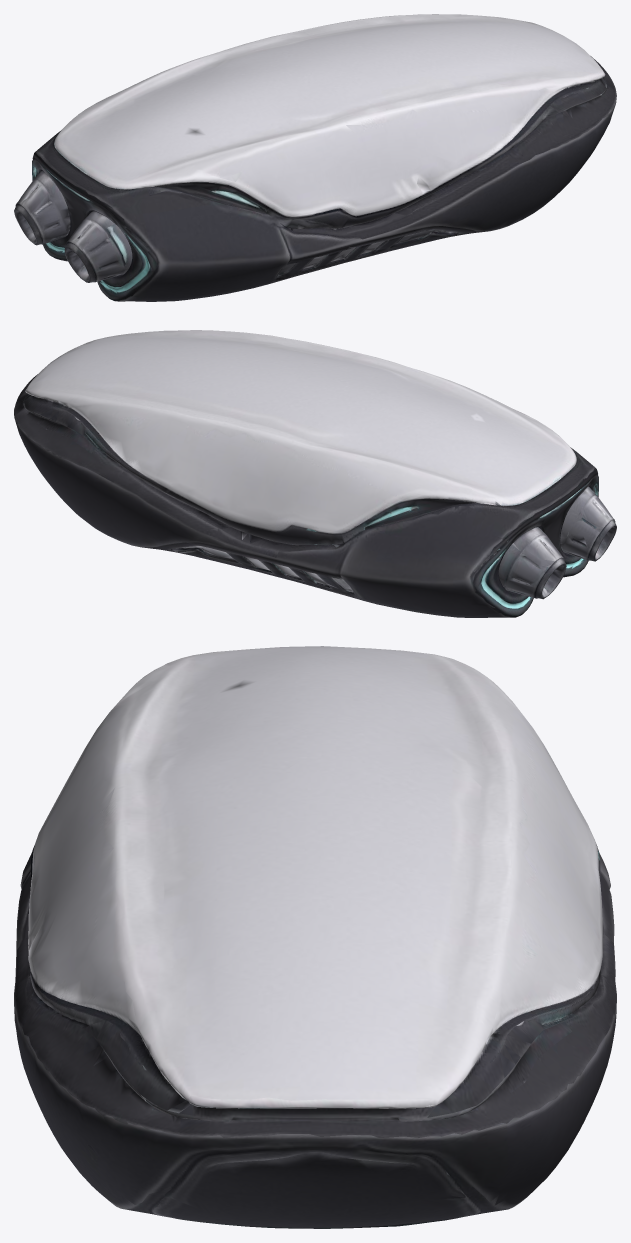
File: jetpack.glb
3 views of the same model, one above another, from view 1: azimuth 30°, elevation 25°; view 2: azimuth 150°, elevation 25°; view 3: azimuth 270°, elevation 25° (orthographic). The views are drawn at different scales.
Parts seen in each view (by area): view 1: jetpack2; view 2: jetpack2; view 3: jetpack2.
Boxes of the visible parts, x1=… form: jetpack2: x1=14, y1=14, x2=616, y2=301; jetpack2: x1=14, y1=330, x2=616, y2=617; jetpack2: x1=14, y1=646, x2=616, y2=1228.
Size of the model in its own units: 1.9 by 0.5278 by 0.9841.
1 material, 1 textured.
